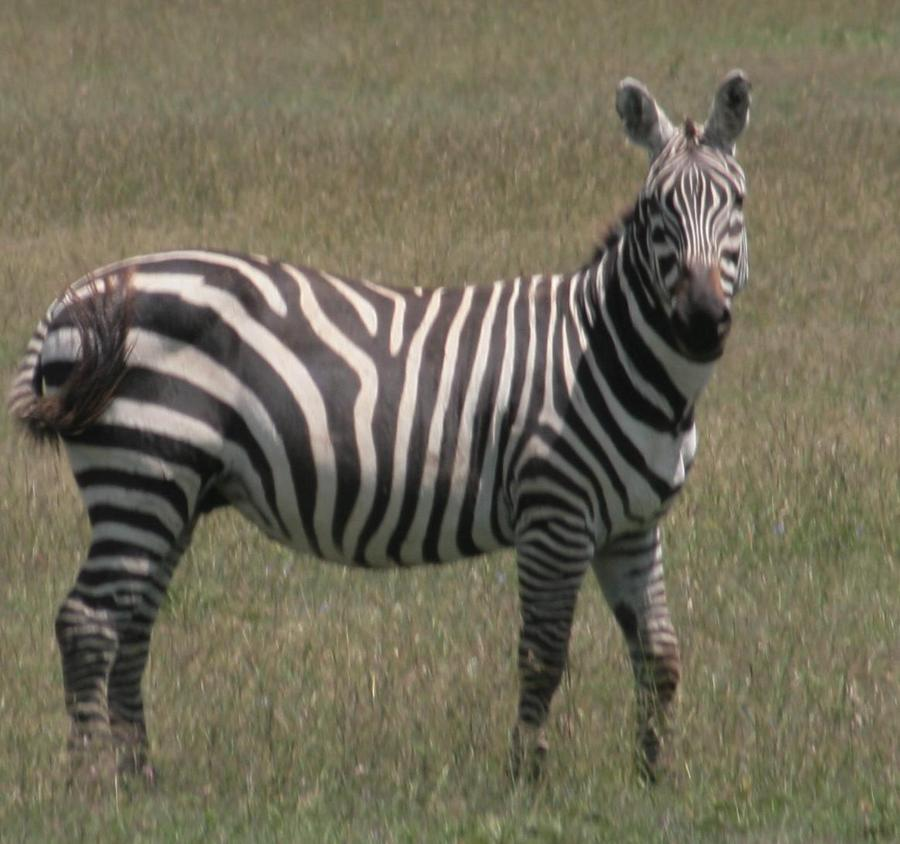zebra_plains: (5, 207, 646, 581)
